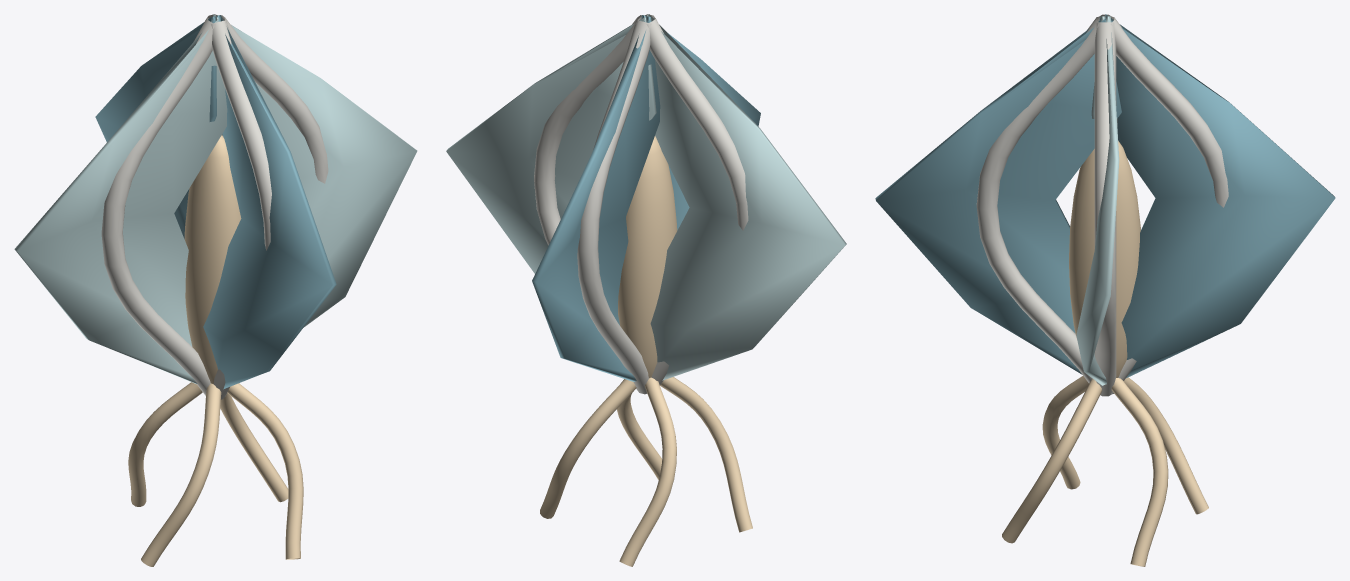
File: bio_lantern_sail_02_near.glb
The picture shows the model from 3 angles, left to right: view 1: azimuth 30°, elevation 25°; view 2: azimuth 150°, elevation 25°; view 3: azimuth 270°, elevation 25°; orthographic projection.
Visible parts, largest first — view 1: Ribbed sensory membrane.002, Ribbed sensory membrane.003, Ribbed sensory membrane, Buoyancy spindle, Membrane leading seam.002, Membrane leading seam.003, Ribbed sensory membrane.001, Trailing electroreceptor.003, Membrane leading seam, Trailing electroreceptor.002, Trailing electroreceptor.001, Trailing electroreceptor; view 2: Ribbed sensory membrane.002, Ribbed sensory membrane, Ribbed sensory membrane.001, Buoyancy spindle, Membrane leading seam.001, Membrane leading seam.002, Membrane leading seam, Trailing electroreceptor.001, Trailing electroreceptor.002, Trailing electroreceptor, Ribbed sensory membrane.003, Trailing electroreceptor.003; view 3: Ribbed sensory membrane.001, Ribbed sensory membrane.003, Membrane leading seam.003, Buoyancy spindle, Ribbed sensory membrane, Membrane leading seam, Membrane leading seam.001, Trailing electroreceptor, Trailing electroreceptor.003, Trailing electroreceptor.001, Trailing electroreceptor.002.
Part boxes in pixels (box(x1,y1,x2,y2)): Ribbed sensory membrane.002: box(14, 16, 227, 384); Ribbed sensory membrane.003: box(203, 15, 336, 389); Ribbed sensory membrane: box(213, 14, 417, 327); Buoyancy spindle: box(184, 135, 241, 383); Membrane leading seam.002: box(101, 18, 215, 395); Membrane leading seam.003: box(211, 20, 271, 399); Ribbed sensory membrane.001: box(95, 16, 216, 238); Trailing electroreceptor.003: box(227, 383, 303, 559); Membrane leading seam: box(221, 15, 328, 396); Trailing electroreceptor.002: box(141, 383, 221, 566); Trailing electroreceptor.001: box(128, 382, 202, 506); Trailing electroreceptor: box(220, 393, 288, 502); Ribbed sensory membrane.002: box(647, 14, 846, 380); Ribbed sensory membrane: box(446, 16, 656, 273); Ribbed sensory membrane.001: box(532, 16, 660, 381); Buoyancy spindle: box(618, 136, 677, 378); Membrane leading seam.001: box(577, 20, 651, 394); Membrane leading seam.002: box(646, 18, 748, 392); Membrane leading seam: box(534, 15, 641, 389); Trailing electroreceptor.001: box(619, 377, 676, 566); Trailing electroreceptor.002: box(660, 377, 752, 532); Trailing electroreceptor: box(540, 379, 636, 518); Ribbed sensory membrane.003: box(641, 15, 760, 230); Trailing electroreceptor.003: box(617, 379, 662, 480); Ribbed sensory membrane.001: box(1105, 14, 1335, 378); Ribbed sensory membrane.003: box(875, 16, 1122, 374); Membrane leading seam.003: box(976, 17, 1100, 383); Buoyancy spindle: box(1069, 141, 1140, 377); Ribbed sensory membrane: box(1076, 16, 1119, 385); Membrane leading seam: box(1094, 22, 1116, 396); Membrane leading seam.001: box(1110, 17, 1228, 394); Trailing electroreceptor: box(1111, 378, 1168, 566); Trailing electroreceptor.003: box(1002, 379, 1102, 543); Trailing electroreceptor.001: box(1124, 377, 1208, 514); Trailing electroreceptor.002: box(1042, 376, 1088, 489).
Bounding box in the file's own units: 2.14 × 2.62 × 2.14.
